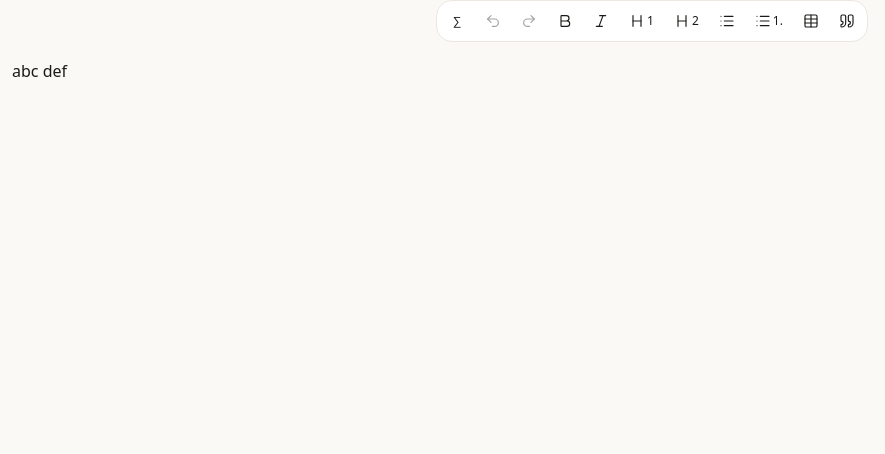
Test: runs Delete selection on the pinned selection
Press F10 in the field named "Canvas", box [12,60,67,82]
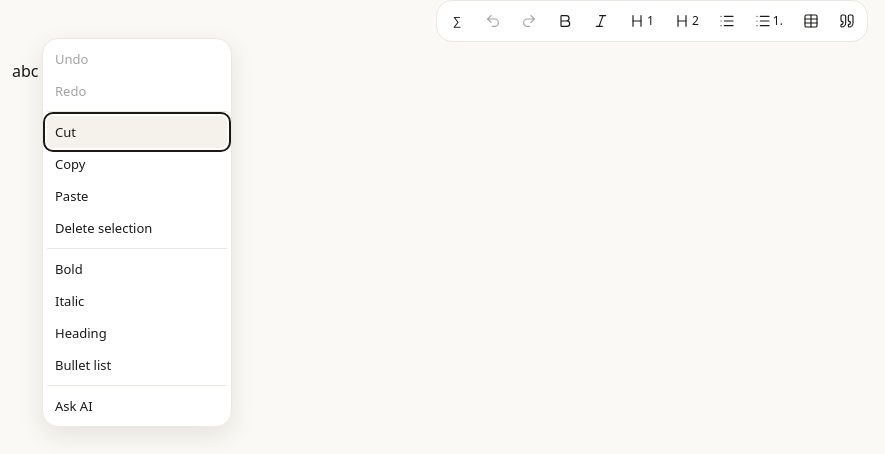
Click the menu item "Delete selection".
click(137, 228)  # box [47,212,227,244]
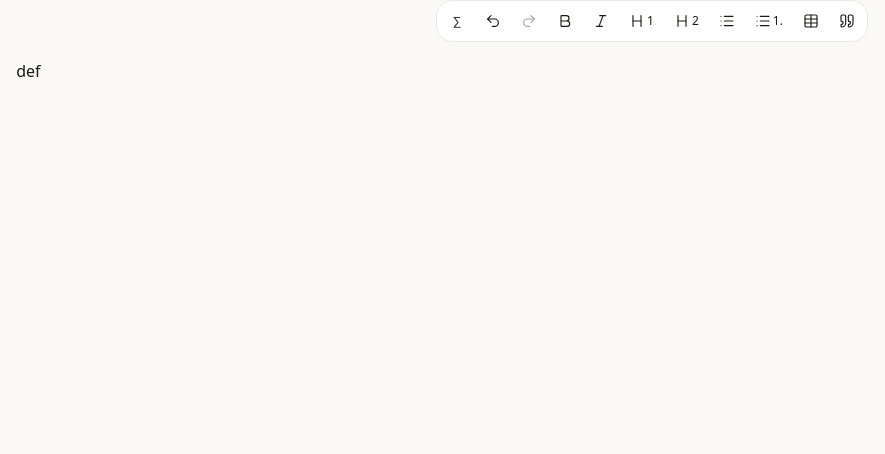
Expected: the text box labelled "def" is shown, [12,60,40,82]
